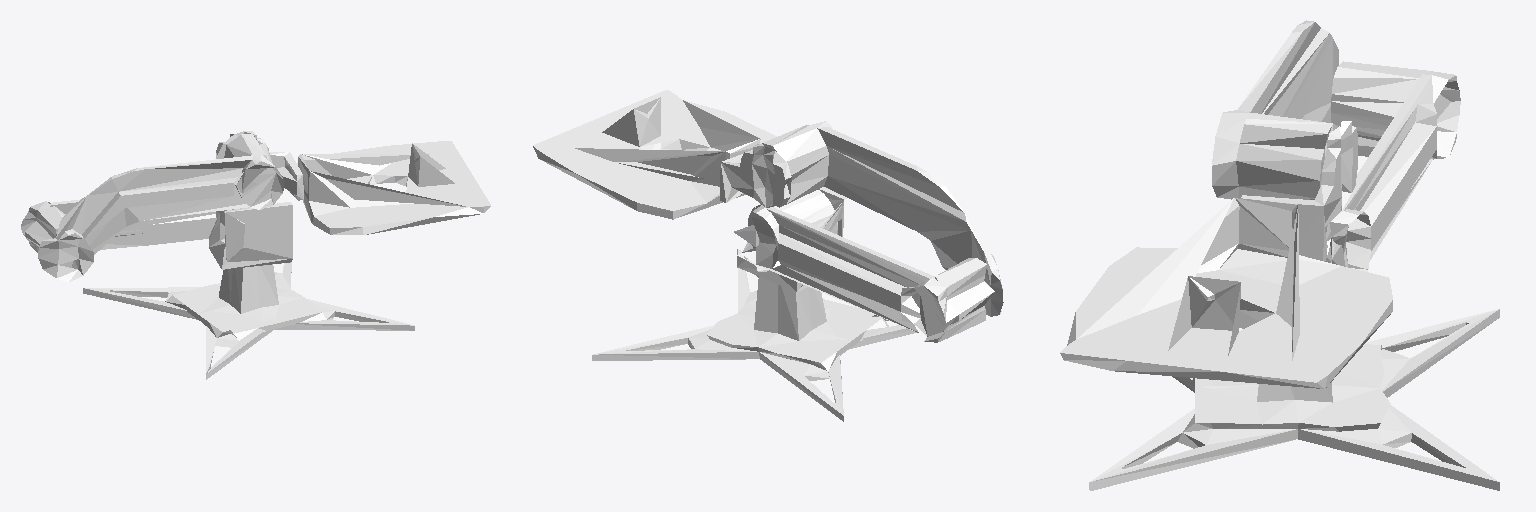
URDF robot description (robot_arm):
<?xml version="1.0"?>
<robot name="robot_arm">
  <link name="base_link">
      <visual>
        <origin xyz="0 0 0" rpy="0 0 0" />
        <geometry>
          <mesh filename="package://arm_model/model/base_link.STL" />
        </geometry>
        <material name="default">
          <color rgba="1.00000000 1.00000000 1.00000000 1.00000000"/>
        </material>
      </visual>
      <collision>
        <origin xyz="0 0 0.005" rpy="0 0 0" />
        <geometry>
          <cylinder radius="0.137364" length="0.000001" />
        </geometry>
      </collision>
      <inertial>
        <origin xyz="0 0 0.013347" rpy="0 0 0" />
        <mass value="0.31733" />
        <inertia ixx="0.0002426" ixy="0" ixz="0" iyy="0.0002426" iyz="0" izz="0.0004234" />
      </inertial>
    </link>
  <link name="base_yaw_Link">
      <visual>
        <origin xyz="0 0 0" rpy="0 0 0" />
        <geometry>
          <mesh filename="package://arm_model/model/base_yaw_Link.STL" />
        </geometry>
        <material name="default">
          <color rgba="1.00000000 1.00000000 1.00000000 1.00000000"/>
        </material>
      </visual>
      <collision>
        <origin xyz="-0.0010804 -0.0038333 0.034" rpy="0 0 0" />
        <geometry>
          <cylinder radius="0.010001" length="0.118469" />
        </geometry>
      </collision>
      <inertial>
        <origin xyz="-0.0020917 -0.0074065 0.032382" rpy="0 0 0" />
        <mass value="0.22637" />
        <inertia ixx="0.0001279" ixy="0.0000052" ixz="0.0000048" iyy="0.0001444" iyz="0.000018" izz="0.0001467" />
      </inertial>
    </link>
  <link name="upper_arm_link">
      <visual>
        <origin xyz="0 0 0" rpy="0 0 0" />
        <geometry>
          <mesh filename="package://arm_model/model/upper_arm_link.STL" />
        </geometry>
        <material name="default">
          <color rgba="1.00000000 1.00000000 1.00000000 1.00000000"/>
        </material>
      </visual>
      <collision>
        <origin xyz="-0.1009507 0.0165225 -0.0000248" rpy="-3.1328242 -0.0001984 -0.1367144" />
        <geometry>
          <box size="0.163662 0.024919 0.007327" />
        </geometry>
      </collision>
      <inertial>
        <origin xyz="-0.15294 0.02387 0" rpy="0 0 0" />
        <mass value="0.24808" />
        <inertia ixx="0.000124" ixy="0.0001414" ixz="0" iyy="0.0005979" iyz="0" izz="0.0006166" />
      </inertial>
    </link>
  <link name="forearm_link">
      <visual>
        <origin xyz="0 0 0" rpy="0 0 0" />
        <geometry>
          <mesh filename="package://arm_model/model/forearm_link.STL" />
        </geometry>
        <material name="default">
          <color rgba="1.00000000 1.00000000 1.00000000 1.00000000"/>
        </material>
      </visual>
      <collision>
        <origin xyz="0.0969654 -0.0145236 0.0444222" rpy="3.0486435 -0.2620476 -0.1375345" />
        <geometry>
          <box size="0.15 0.015238 0.012728" />
        </geometry>
      </collision>
      <inertial>
        <origin xyz="0.14778 -0.023186 0.050608" rpy="0 0 0" />
        <mass value="0.2587" />
        <inertia ixx="0.000185" ixy="0.0001548" ixz="-0.0001335" iyy="0.0007044" iyz="0.0000371" izz="0.0006698" />
      </inertial>
    </link>
  <link name="wrist_link">
      <visual>
        <origin xyz="0 0 0" rpy="0 0 0" />
        <geometry>
          <mesh filename="package://arm_model/model/wrist_link.STL" />
        </geometry>
        <material name="default">
          <color rgba="1.00000000 1.00000000 1.00000000 1.00000000"/>
        </material>
      </visual>
      <collision>
        <origin xyz="0.0201568 -0.0209135 -0.0095326" rpy="-1.4993451 0.3553112 -0.8455611" />
        <geometry>
          <box size="0.049957 0.017099 0.015769" />
        </geometry>
      </collision>
      <inertial>
        <origin xyz="0.020287 -0.022165 -0.010354" rpy="0 0 0" />
        <mass value="0.047454" />
        <inertia ixx="0.0000316" ixy="0.000014" ixz="0.0000076" iyy="0.0000313" iyz="-0.0000068" izz="0.0000417" />
      </inertial>
    </link>
  <link name="end_effector_fixed_joint">
      <visual>
        <origin xyz="0 0 0" rpy="0 0 0" />
        <geometry>
          <mesh filename="package://arm_model/model/end_effector_fixed_joint.STL" />
        </geometry>
        <material name="default">
          <color rgba="1.00000000 1.00000000 1.00000000 1.00000000"/>
        </material>
      </visual>
      <collision>
        <origin xyz="-0.0354207 0.0096738 -0.0080076" rpy="0.0064462 0.0665544 -0.271741" />
        <geometry>
          <box size="0.124232 0.070576 0.016323" />
        </geometry>
      </collision>
      <inertial>
        <origin xyz="-0.041409 0.011419 -0.017913" rpy="0 0 0" />
        <mass value="0.32249" />
        <inertia ixx="0.0007915" ixy="0.0000435" ixz="0.0000128" iyy="0.0009371" iyz="-0.0000035" izz="0.0016677" />
      </inertial>
    </link>
  <joint name="base_yaw_joint" type="revolute">
      <parent link="base_link" />
      <child link="base_yaw_Link" />
      <origin xyz="0.000017 -0.0000228 0.058" rpy="0 0 0" />
      <axis xyz="0 0 1" />
      <limit lower="-3.14" upper="3.14" effort="10" velocity="1" />
    </joint>
  <joint name="shoulder_pitch_joint" type="revolute">
      <parent link="base_yaw_Link" />
      <child link="upper_arm_link" />
      <origin xyz="0.0080913 0.029425 0.0395" rpy="0 0 0" />
      <axis xyz="0.26585 0.96402 0" />
      <limit lower="-0.42" upper="3.58" effort="10" velocity="1" />
    </joint>
  <joint name="elbow_pitch_joint" type="revolute">
      <parent link="upper_arm_link" />
      <child link="forearm_link" />
      <origin xyz="-0.21008 -0.0094917 0" rpy="0 0 0" />
      <axis xyz="-0.26585 -0.96402 0" />
      <limit lower="0" upper="3.14" effort="10" velocity="1" />
    </joint>
  <joint name="wrist_pitch_joint" type="revolute">
      <parent link="forearm_link" />
      <child link="wrist_link" />
      <origin xyz="0.21061 0.01142 0.057" rpy="0 0 0" />
      <axis xyz="0.26585 0.96402 0" />
      <limit lower="-3.14" upper="0.3" effort="10" velocity="1" />
    </joint>
  <joint name="end_effector_link" type="fixed">
      <parent link="wrist_link" />
      <child link="end_effector_fixed_joint" />
      <origin xyz="0.16309 -0.080763 -0.016359" rpy="0 0 0" />
    </joint>
</robot>

--- What the picture shows (computed from the rendered views, not written in the file) ---
Views: 3 orthographic renders of the robot side by side, from view 1: azimuth 30°, elevation 25°; view 2: azimuth 150°, elevation 25°; view 3: azimuth 270°, elevation 25°.
Model robot_arm with 6 links and 5 joints (4 revolute, 1 fixed), rooted at base_link, posed every joint at zero.
Visible links, largest first — view 1: forearm_link, end_effector_fixed_joint, base_link, base_yaw_Link, upper_arm_link, wrist_link; view 2: end_effector_fixed_joint, upper_arm_link, base_link, forearm_link, wrist_link, base_yaw_Link; view 3: end_effector_fixed_joint, base_link, upper_arm_link, forearm_link, wrist_link.
Boxes of the visible links, box(x1,y1,x2,y2) form: forearm_link: box(38, 134, 284, 282); end_effector_fixed_joint: box(297, 141, 490, 234); base_link: box(83, 262, 414, 379); base_yaw_Link: box(209, 202, 292, 269); upper_arm_link: box(21, 199, 216, 252); wrist_link: box(216, 131, 303, 200); end_effector_fixed_joint: box(533, 90, 776, 219); upper_arm_link: box(734, 205, 994, 342); base_link: box(592, 249, 916, 421); forearm_link: box(751, 121, 1003, 316); wrist_link: box(720, 144, 791, 207); base_yaw_Link: box(737, 187, 846, 291); end_effector_fixed_joint: box(1060, 198, 1392, 388); base_link: box(1089, 309, 1499, 490); upper_arm_link: box(1329, 61, 1460, 271); forearm_link: box(1212, 20, 1338, 199); wrist_link: box(1241, 121, 1357, 260).
Size in the robot's own frame: 0.4725 by 0.2644 by 0.189 metres.
Meshes: 6 distinct files referenced, 6 mesh visuals loaded (6 binary STL).
